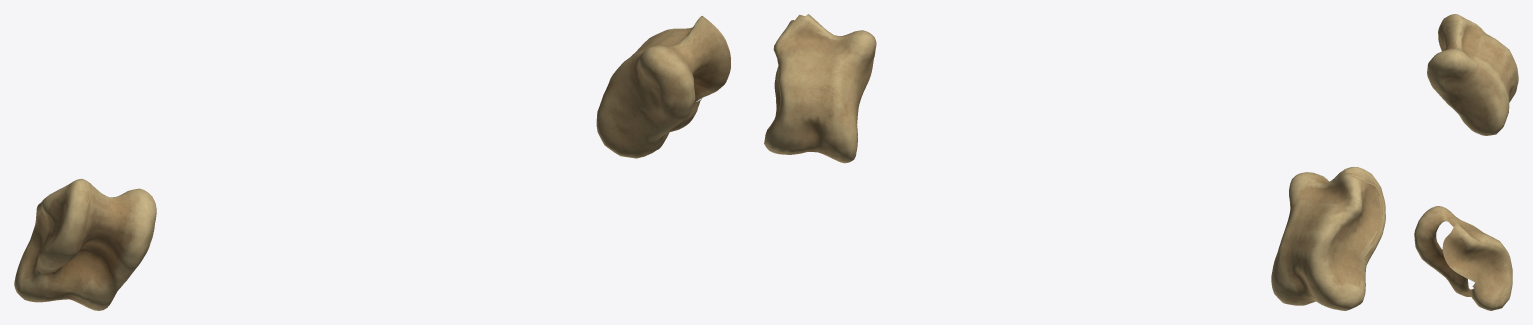
The model's file is Talus.glb.
The picture shows the model from 3 angles, left to right: view 1: azimuth 30°, elevation 25°; view 2: azimuth 150°, elevation 25°; view 3: azimuth 270°, elevation 25°; orthographic projection. The views are drawn at different scales.
Visible parts, largest first — view 1: Group56506.002, Group56506.003, Group56506.004; view 2: Group56506.002, Group56506.003, Group56506.004; view 3: Group56506.003, Group56506.002, Group56506.004.
Boxes of the visible parts, x1,y1,x2,y2 form: Group56506.002: (596, 16, 730, 158); Group56506.003: (14, 181, 156, 310); Group56506.004: (37, 178, 89, 275); Group56506.002: (764, 14, 876, 163); Group56506.003: (1271, 170, 1380, 310); Group56506.004: (1343, 166, 1385, 264); Group56506.003: (1427, 17, 1518, 135); Group56506.002: (1414, 206, 1512, 310); Group56506.004: (1438, 14, 1462, 50).
Bounding box in the file's own units: 329 × 76.32 × 61.38.
3 materials, 3 textured.
